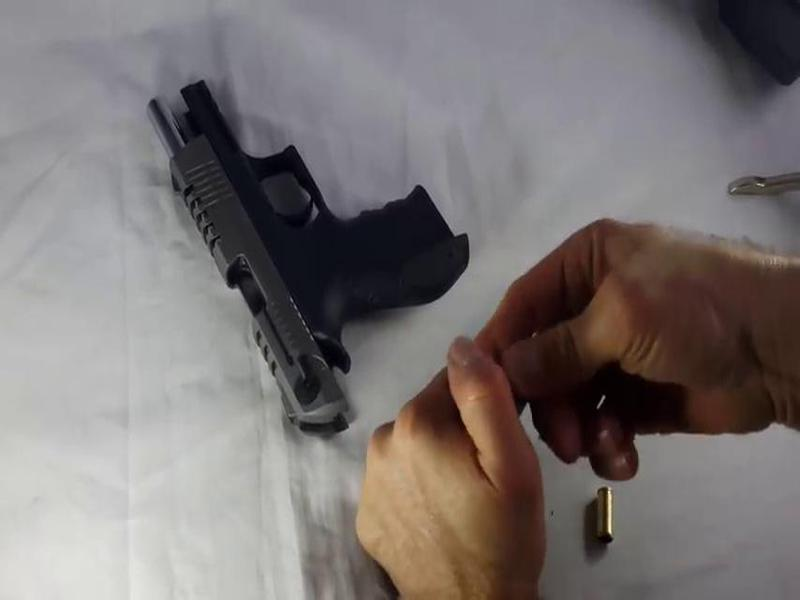Pistola: (148, 77, 478, 438)
